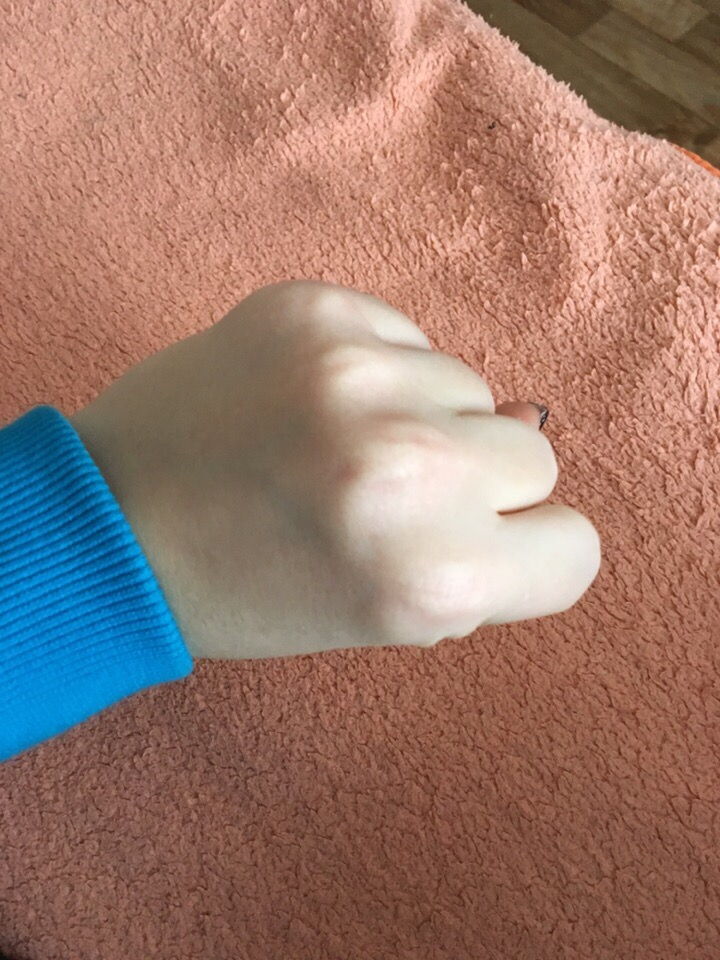hand: (164, 305, 583, 641)
